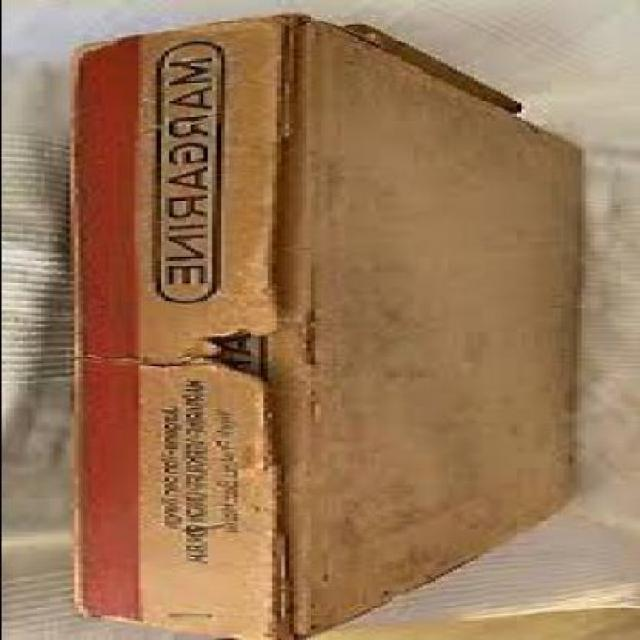box: (65, 18, 619, 640)
